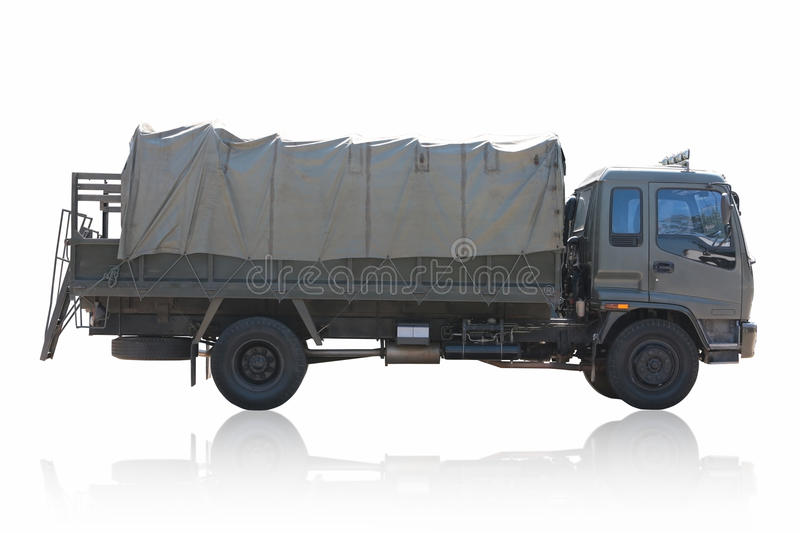camion: (48, 132, 756, 413)
